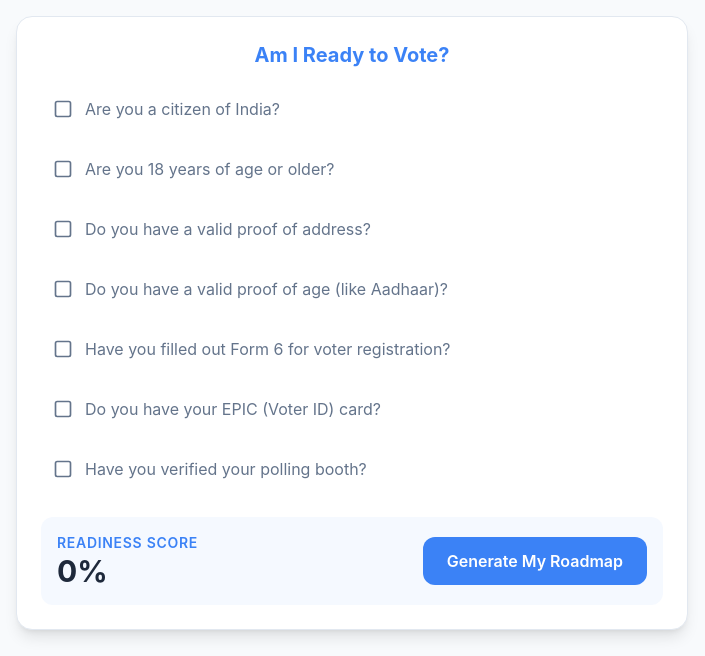
ReadinessChecker Component › toggles answers and calculates score correctly
The width and height of the screenshot is (705, 656).
Expected: the text "0%" is shown, [57,553,108,589]
Click the button "Are you a citizen of India?": (182, 109) [41,85,663,133]
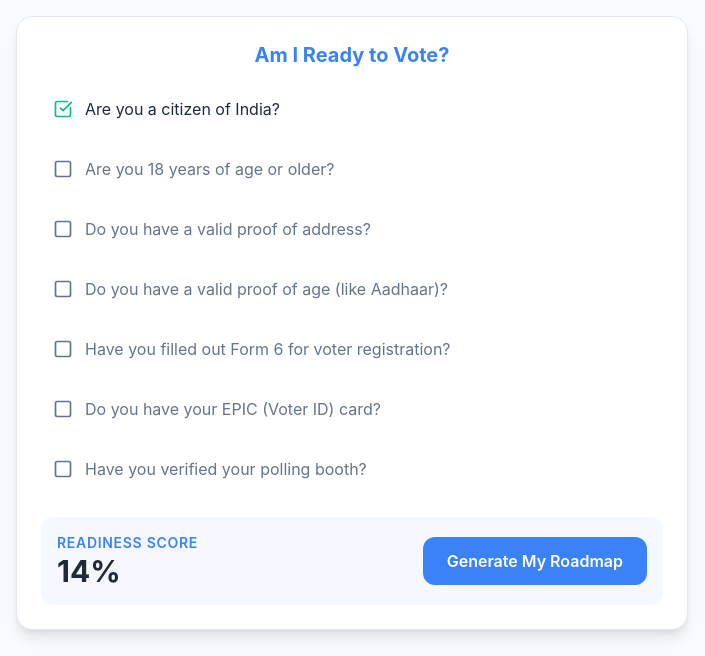
Expected: the text "14%" is shown, [57,553,121,589]
